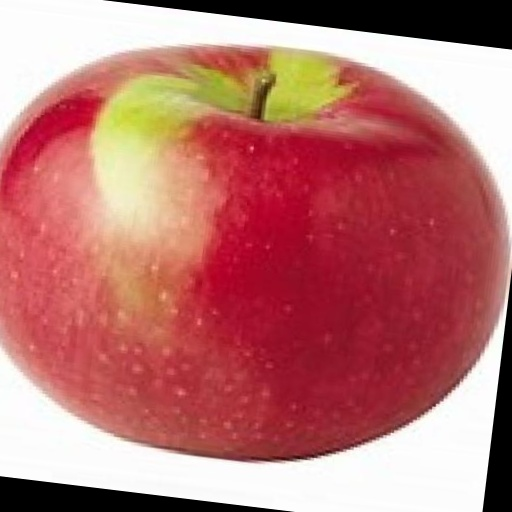fruit: (0, 47, 507, 459)
